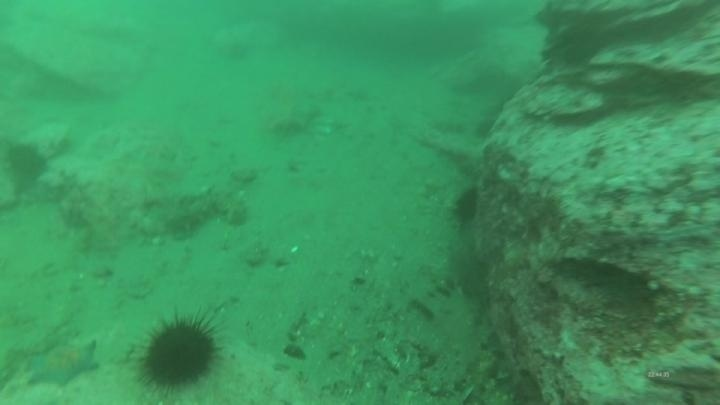echinus: (133, 310, 224, 396), (3, 139, 49, 185), (450, 184, 483, 227)
holothurian: (161, 185, 250, 240)
starfish: (24, 336, 103, 390)
